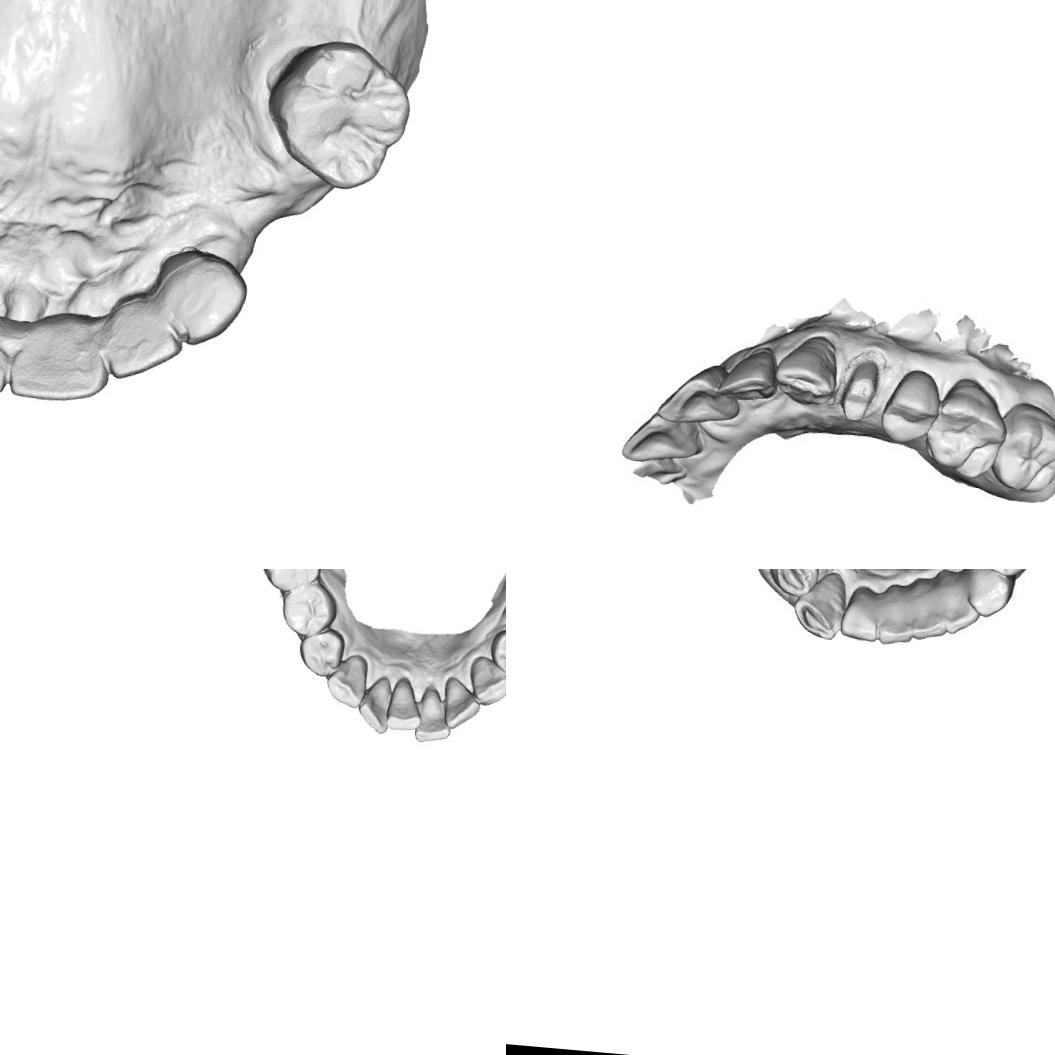canine: (158, 250, 252, 348), (774, 330, 838, 412), (792, 569, 849, 642), (322, 650, 370, 712), (966, 569, 1018, 621), (465, 653, 506, 708)
crown: (840, 352, 884, 424)
incisor: (102, 298, 188, 385), (8, 332, 108, 406), (620, 409, 706, 465), (658, 369, 739, 425), (719, 346, 781, 404), (937, 572, 980, 639), (355, 672, 396, 736), (382, 674, 426, 733), (841, 580, 881, 643), (439, 674, 483, 731), (413, 686, 453, 746), (876, 584, 914, 647), (909, 579, 946, 643)
molar: (257, 32, 419, 196), (928, 375, 1006, 475), (993, 397, 1055, 492), (254, 569, 325, 595)
premolar: (884, 374, 942, 444), (278, 578, 341, 640), (295, 623, 346, 681), (768, 569, 824, 597), (487, 626, 506, 680), (983, 569, 1036, 581)
